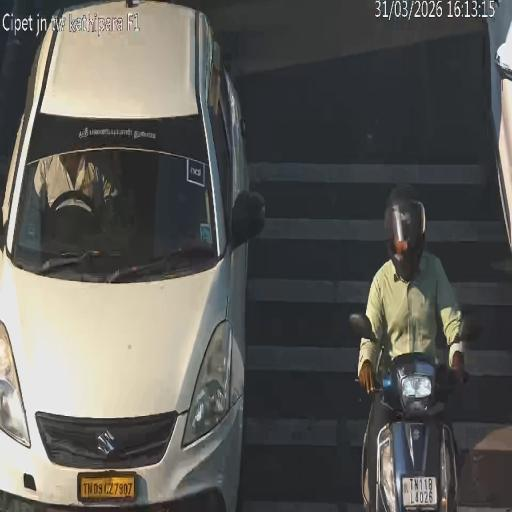person_without_seatbelt: (44, 154, 101, 208)
